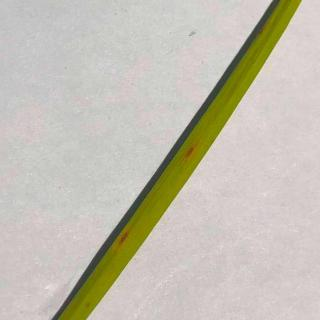bercak-Cokelat: (179, 140, 207, 159), (118, 226, 137, 250)
